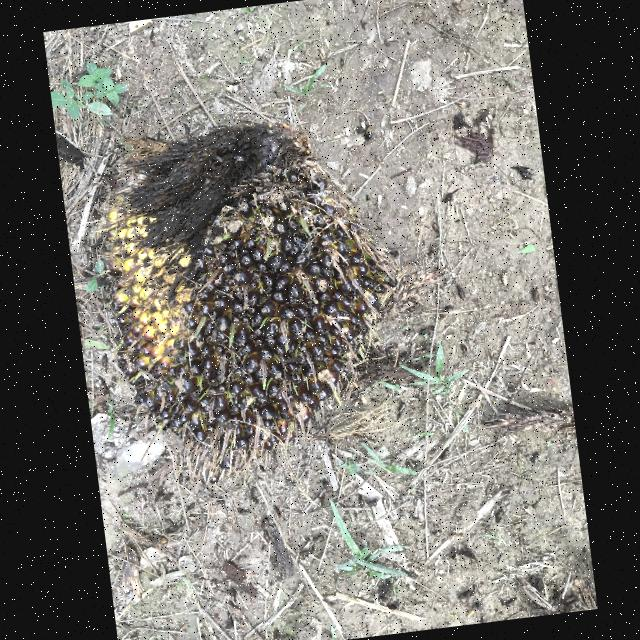Unripe: (106, 150, 383, 446)
